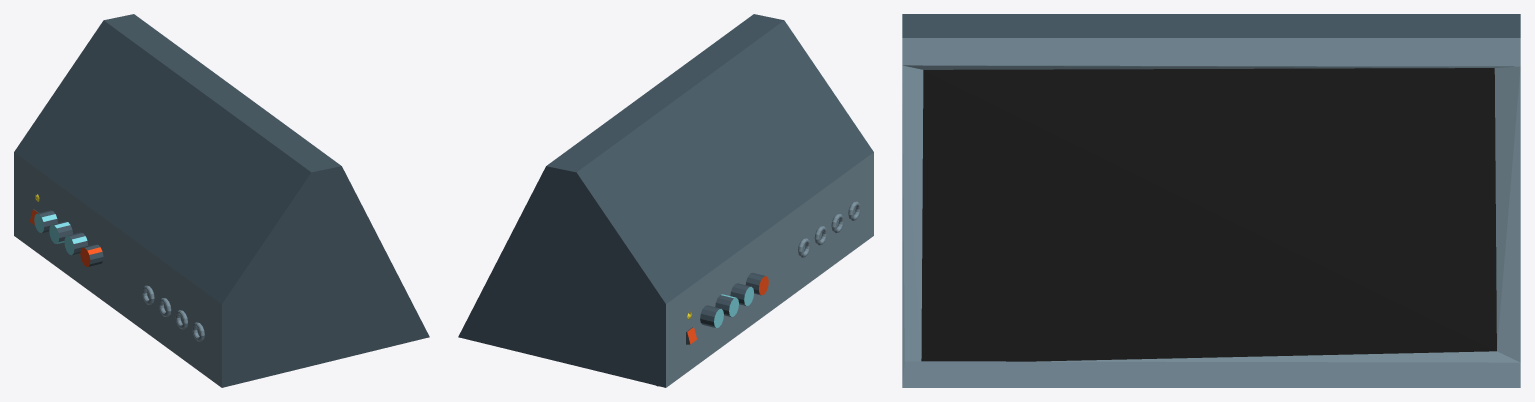
The model's file is monitor.glb.
3 renders of one model, left to right at view 1: azimuth 30°, elevation 25°; view 2: azimuth 150°, elevation 25°; view 3: azimuth 270°, elevation 25°, orthographic. The views are drawn at different scales.
Visible parts, largest first — view 1: group355800739, group1990572017, group268863367, group1484190439, group1682937251; view 2: group355800739, group1484190439, group1682937251, group268863367, group1990572017; view 3: group355800739.
Part boxes in pixels (x1=…): group355800739: x1=14, y1=14, x2=429, y2=387; group1990572017: x1=80, y1=244, x2=103, y2=266; group268863367: x1=64, y1=232, x2=88, y2=255; group1484190439: x1=34, y1=210, x2=57, y2=232; group1682937251: x1=49, y1=221, x2=72, y2=243; group355800739: x1=458, y1=14, x2=873, y2=387; group1484190439: x1=700, y1=305, x2=723, y2=327; group1682937251: x1=715, y1=294, x2=738, y2=316; group268863367: x1=730, y1=283, x2=753, y2=305; group1990572017: x1=745, y1=272, x2=768, y2=295; group355800739: x1=902, y1=14, x2=1520, y2=387.
Bounding box in the file's own units: 0.3822 × 0.3255 × 0.62.
